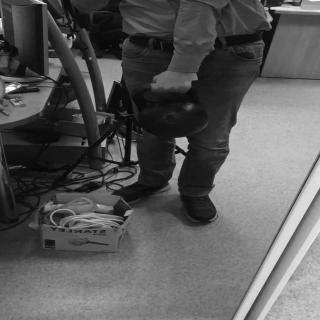kettlebell: (132, 82, 210, 139)
